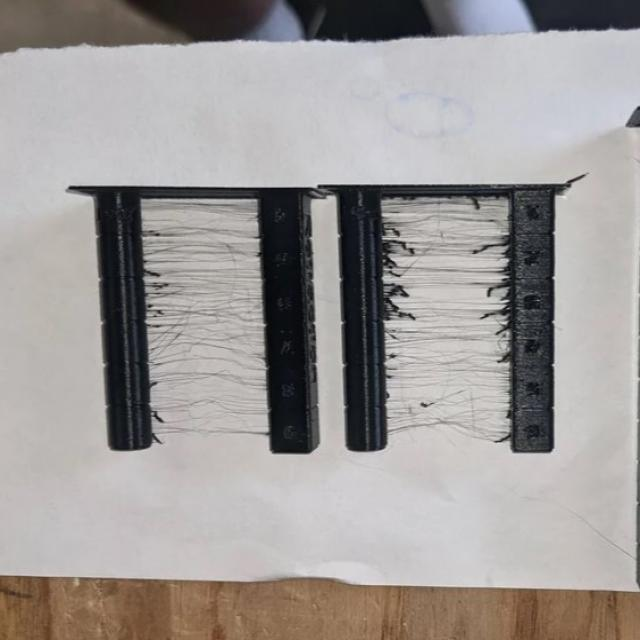stringing: (382, 282, 514, 360), (380, 203, 514, 274), (382, 364, 514, 429), (148, 325, 264, 385), (140, 260, 256, 320), (159, 389, 270, 437), (145, 220, 259, 262)
